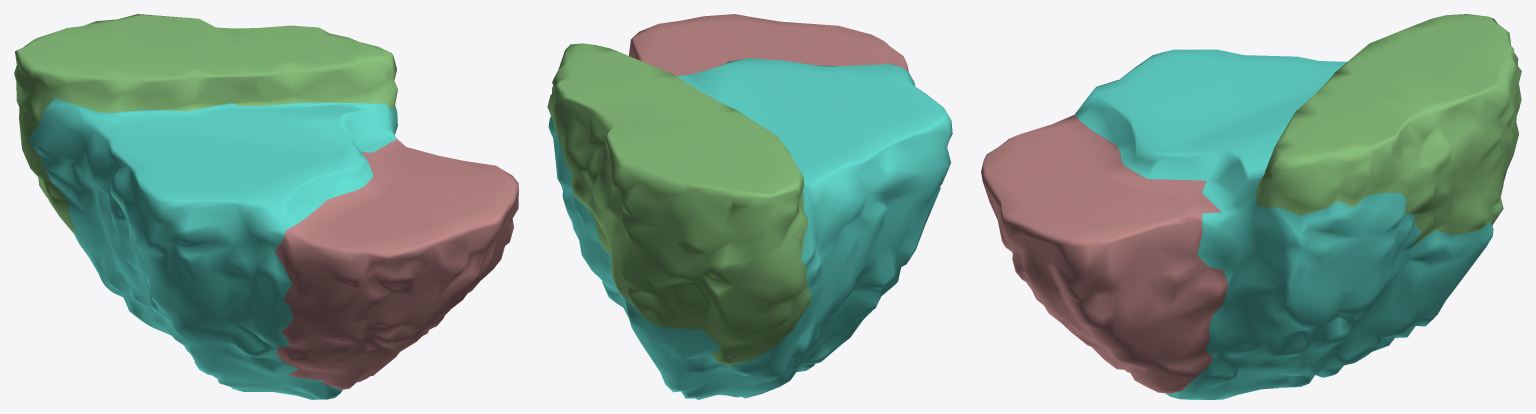
Rendered from platform4_lp.fbx.
The picture shows the model from 3 angles, left to right: view 1: azimuth 30°, elevation 25°; view 2: azimuth 150°, elevation 25°; view 3: azimuth 270°, elevation 25°; orthographic projection. The views are drawn at different scales.
Parts seen in each view (by area): view 1: platform4_lp; view 2: platform4_lp; view 3: platform4_lp.
Boxes of the visible parts, x1,y1,x2,y2 form: platform4_lp: [14, 14, 518, 399]; platform4_lp: [547, 14, 952, 399]; platform4_lp: [981, 14, 1521, 399].
Bounding box in the file's own units: 1988 × 1665 × 2658.
